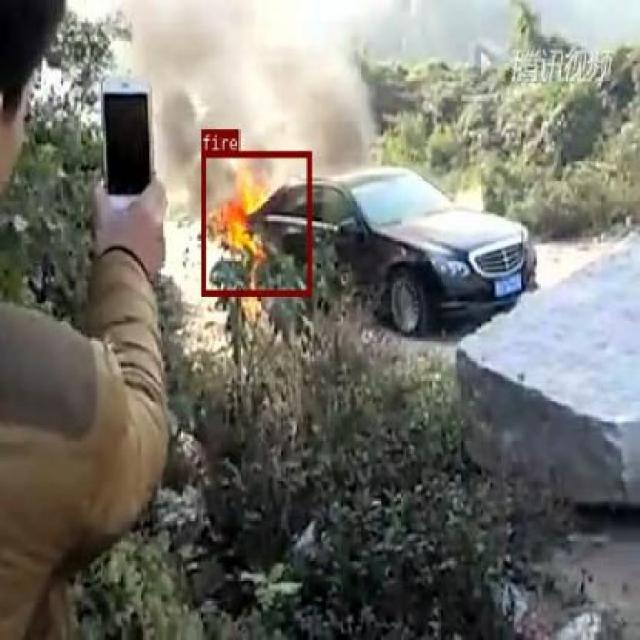Fire: (200, 150, 311, 296)
Smoke: (157, 21, 400, 141)
